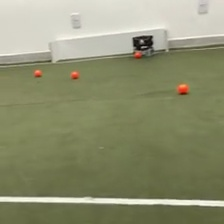ball: (177, 82, 189, 95), (32, 68, 42, 77), (70, 69, 79, 79), (134, 51, 141, 58)
goal: (47, 27, 170, 63)
robot: (131, 33, 155, 58)
